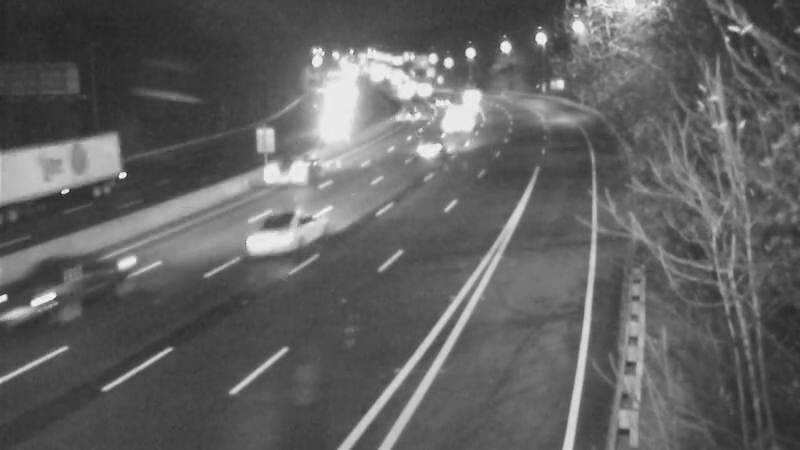vehicle: (245, 128, 325, 208), (222, 202, 302, 282), (1, 259, 76, 339), (1, 157, 75, 237), (402, 66, 452, 116), (380, 70, 430, 120), (443, 68, 493, 118), (406, 74, 456, 124), (442, 84, 492, 134), (381, 94, 431, 144), (425, 97, 475, 147), (410, 122, 460, 172)
